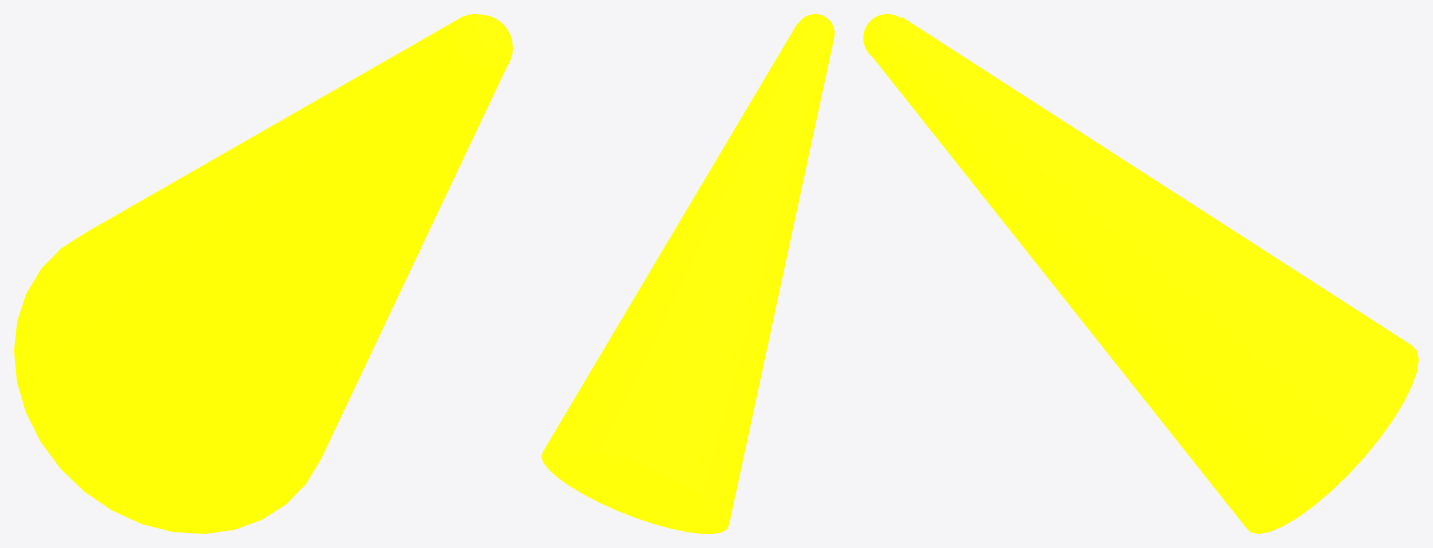
The model's file is sun.fbx.
The picture shows the model from 3 angles, left to right: view 1: azimuth 30°, elevation 25°; view 2: azimuth 150°, elevation 25°; view 3: azimuth 270°, elevation 25°; orthographic projection. The views are drawn at different scales.
Visible parts, largest first — view 1: Cone, Sphere; view 2: Cone, Sphere; view 3: Cone, Sphere.
Part boxes in pixels (x1=…): Cone: x1=14, y1=14, x2=506, y2=533; Sphere: x1=448, y1=14, x2=512, y2=79; Cone: x1=541, y1=23, x2=833, y2=533; Sphere: x1=799, y1=14, x2=834, y2=37; Cone: x1=873, y1=17, x2=1418, y2=533; Sphere: x1=863, y1=14, x2=904, y2=57.
Bounding box in the file's own units: 1026 × 2296 × 2303.
